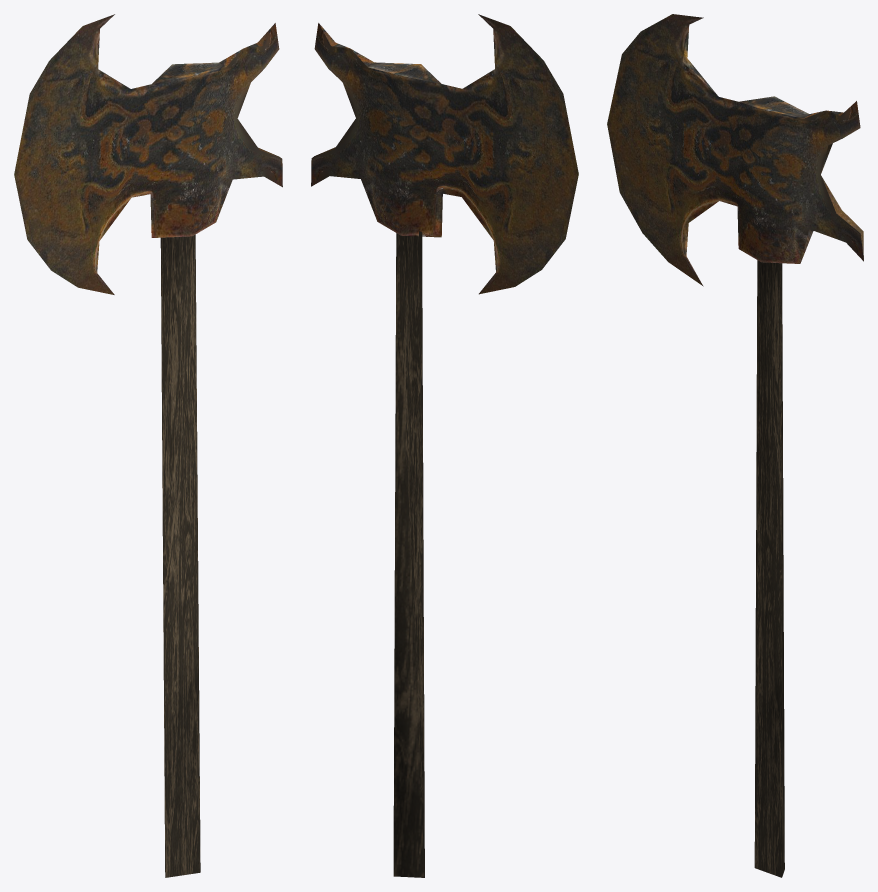
File: axe_LOD1.FBX
The picture shows the model from 3 angles, left to right: view 1: azimuth 30°, elevation 25°; view 2: azimuth 150°, elevation 25°; view 3: azimuth 330°, elevation 25°; orthographic projection. The views are drawn at different scales.
Visible parts, largest first — view 1: axe_LOD1; view 2: axe_LOD1; view 3: axe_LOD1.
Part boxes in pixels (x1,y1,x2,y2): axe_LOD1: (14, 14, 282, 877); axe_LOD1: (311, 14, 578, 877); axe_LOD1: (607, 14, 863, 877).
Bounding box in the file's own units: 40.6 × 127 × 4.42.
